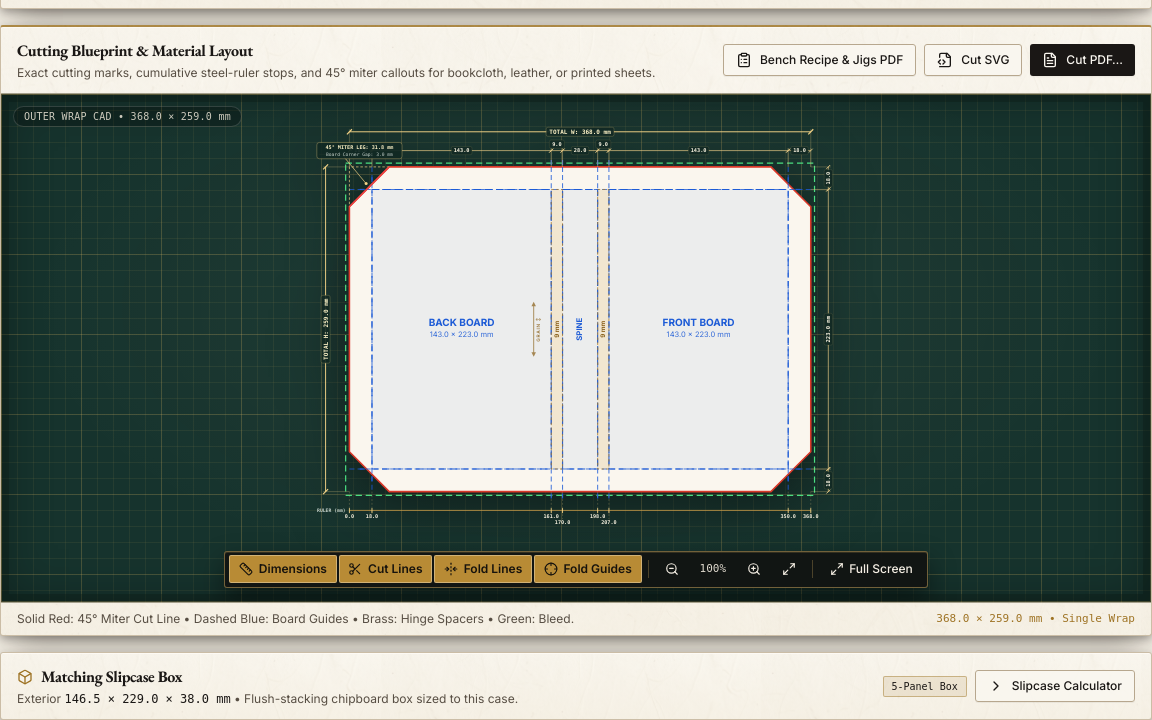
Test case: MeasureAndCutPanel › toggles CAD dimensions and updates zoom level via the Floating HUD toolbar
(page scrolled)
Expected: the element with test id "outer-blueprint-dimensions" is shown, [316,127,832,525]
Click the button with test id "measure-dimensions-btn". click: {"x": 283, "y": 570}
box: [230,556,337,584]
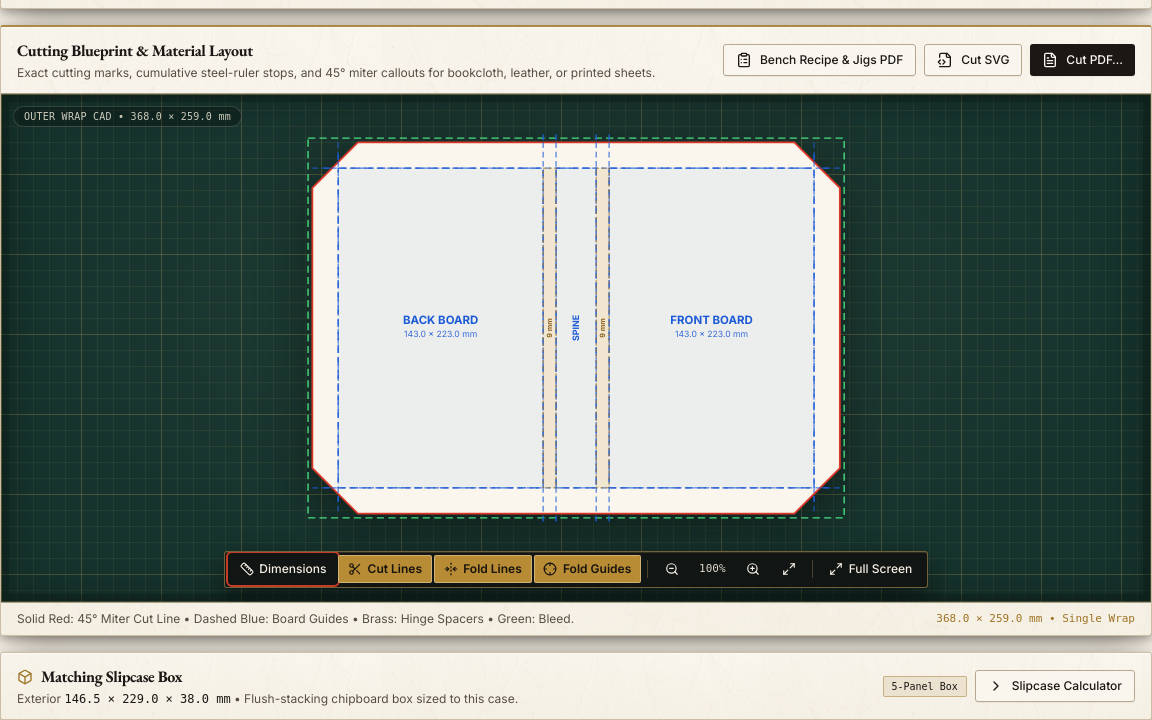
Expected: the button with test id "measure-dimensions-btn" is not pressed
Click the button with test id "measure-dimensions-btn". click: {"x": 283, "y": 570}
box: [230,556,336,584]
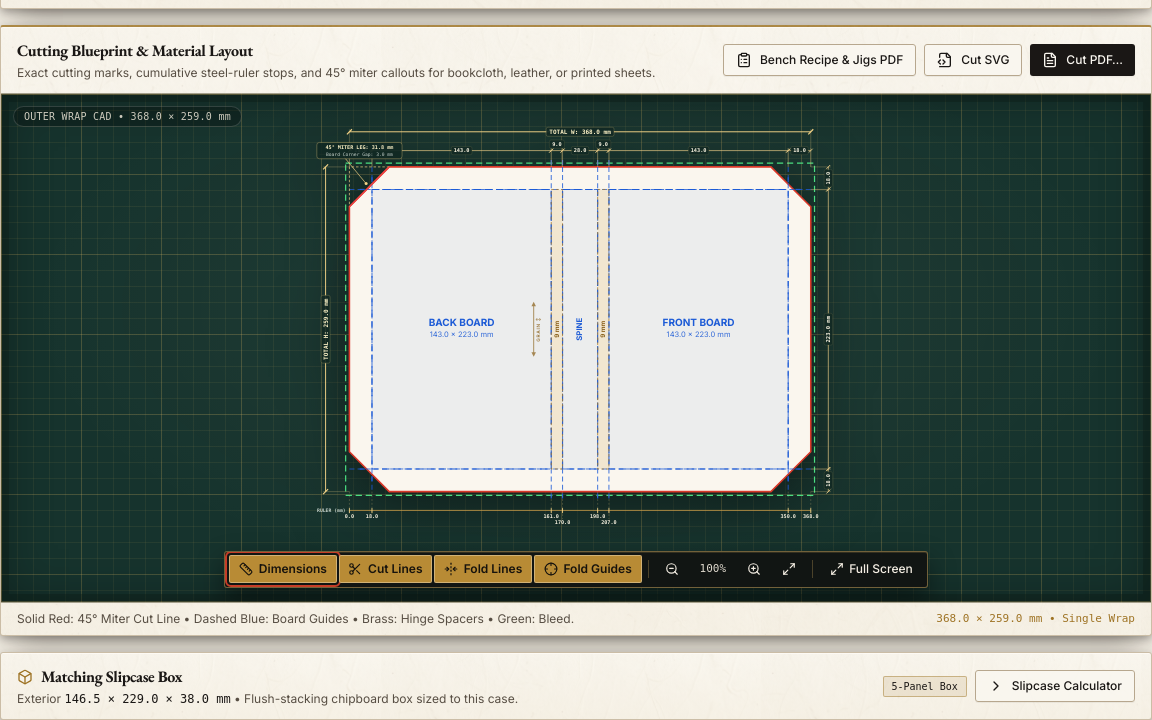
Expected: the element with test id "outer-blueprint-dimensions" is shown, [316,127,832,525]
Expected: the text with test id "measure-zoom-readout" reads "100%", [700,562,726,575]
Click the button with test id "measure-zoom-in-btn". click: {"x": 754, "y": 570}
box: [737,556,770,584]
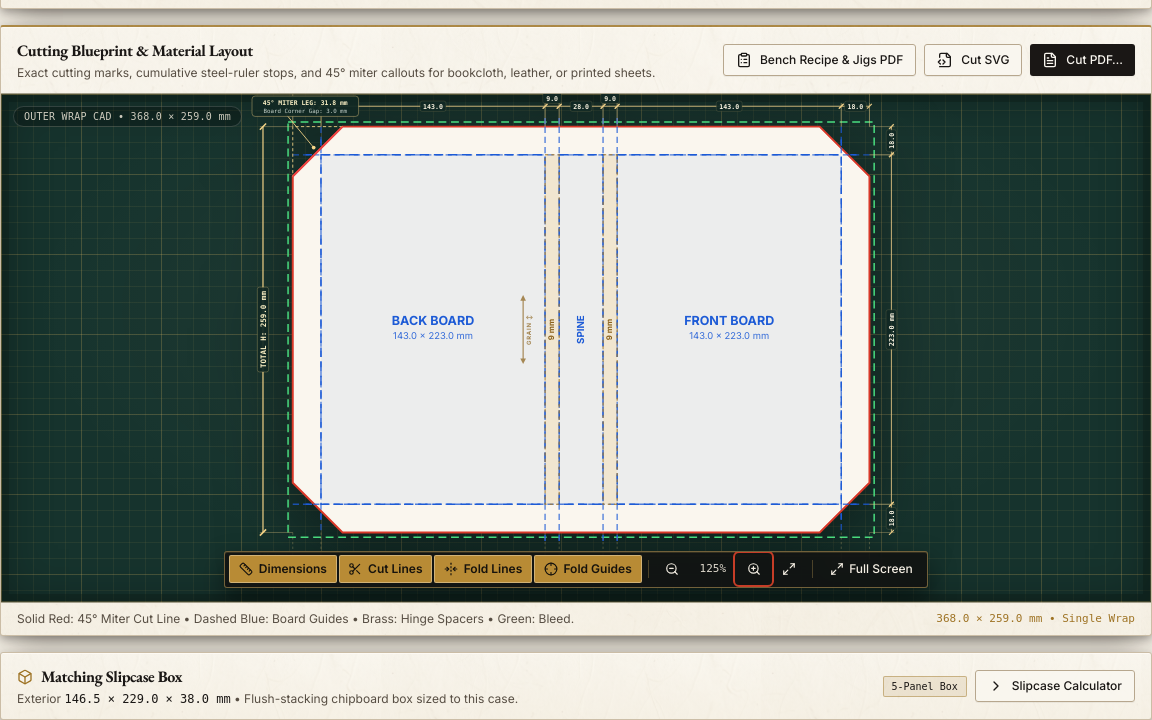
Expected: the text with test id "measure-zoom-readout" reads "125%", [700,562,726,575]
Click the button with test id "measure-zoom-out-btn". click: {"x": 672, "y": 570}
box: [655,556,689,584]
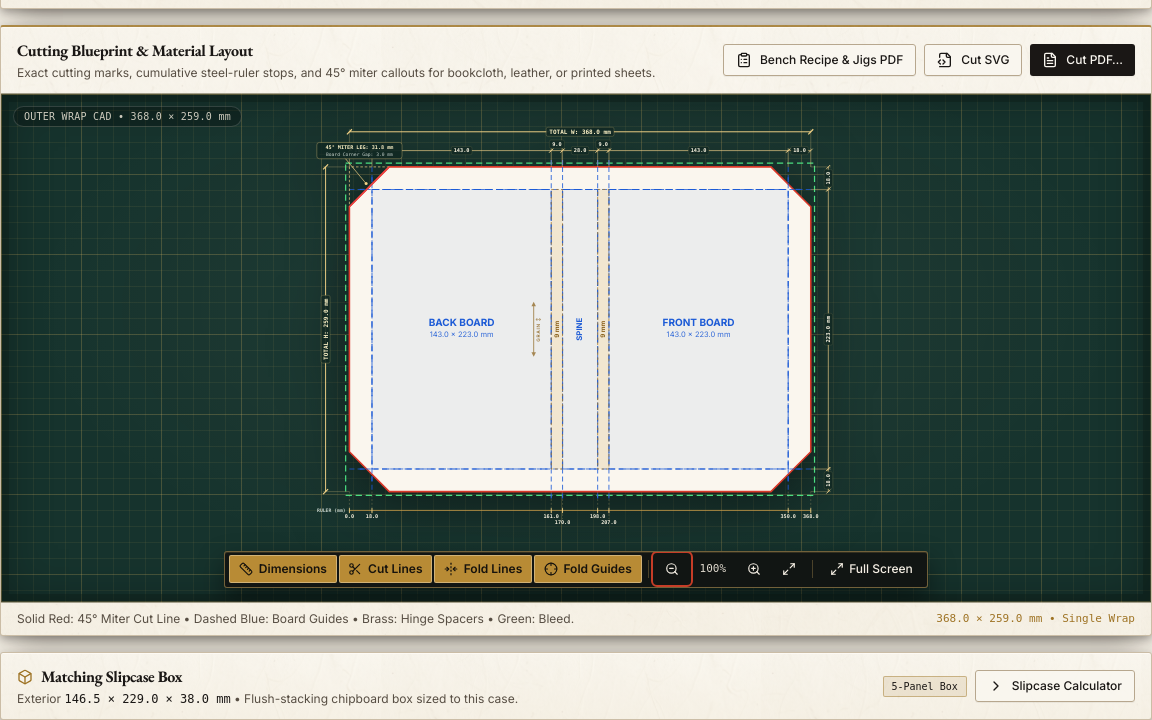
Expected: the text with test id "measure-zoom-readout" reads "100%", [700,562,726,575]
Click the button with test id "measure-zoom-in-btn". click: {"x": 754, "y": 570}
box: [737,556,770,584]
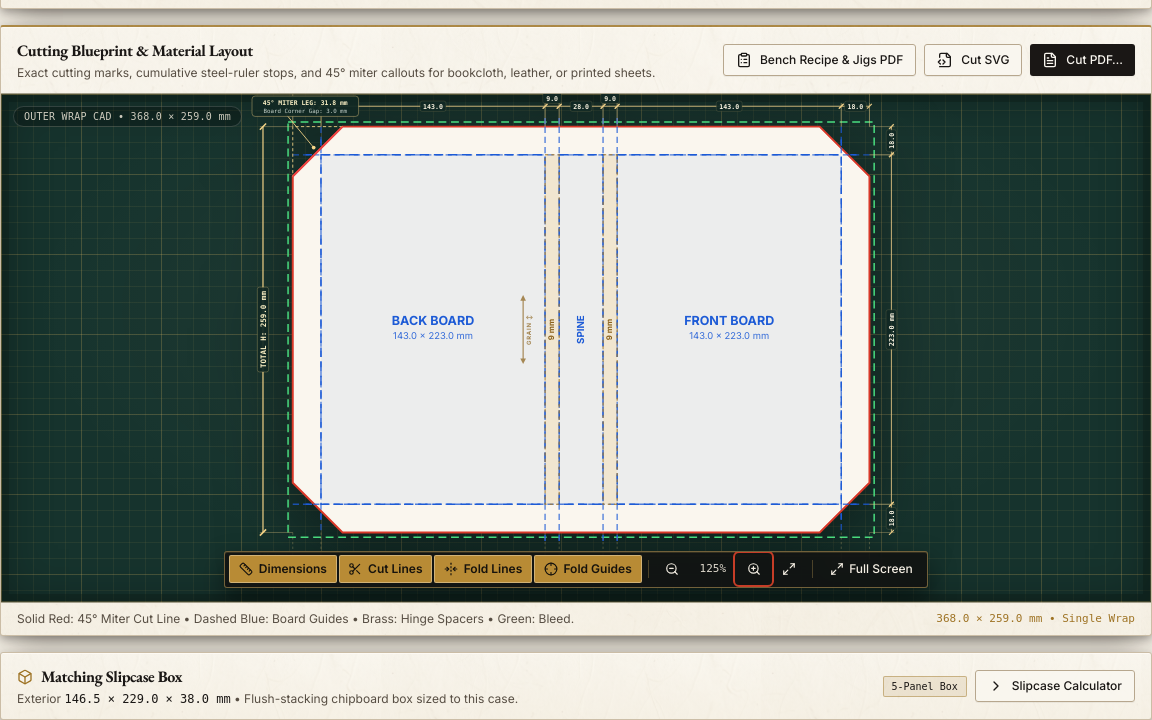
Click the button with test id "measure-zoom-reset-btn". click: {"x": 789, "y": 570}
box: [772,556,806,584]
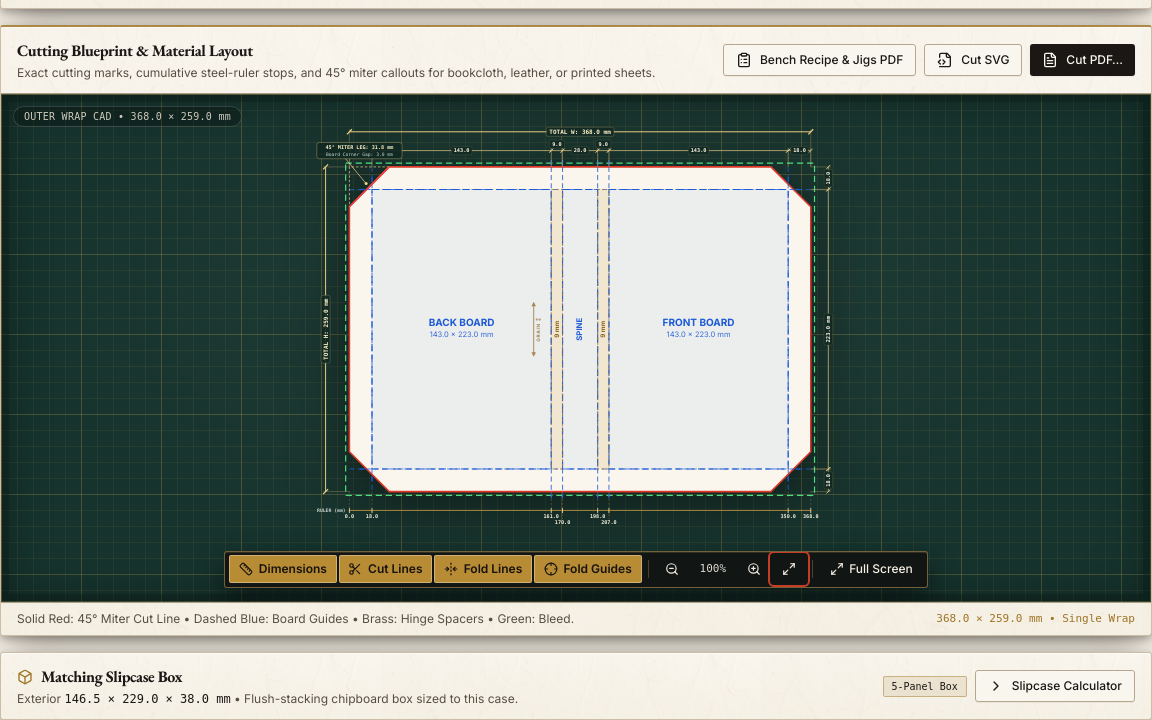
Expected: the text with test id "measure-zoom-readout" reads "100%", [700,562,726,575]
